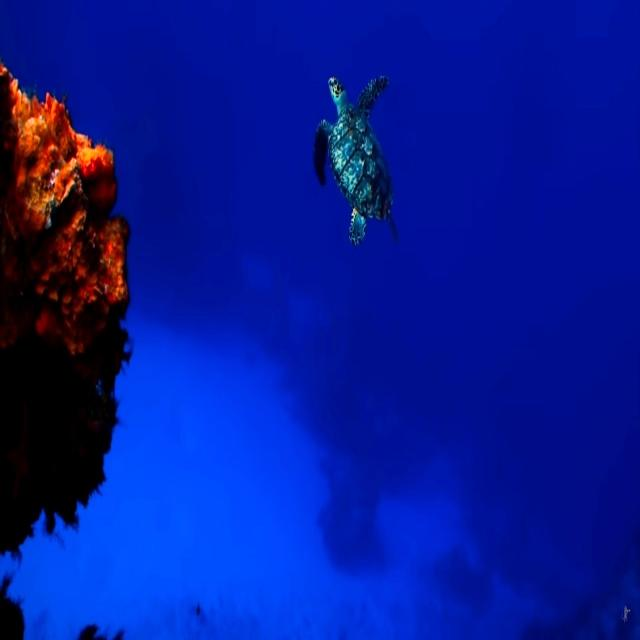Sea turtle: (313, 71, 403, 246)
